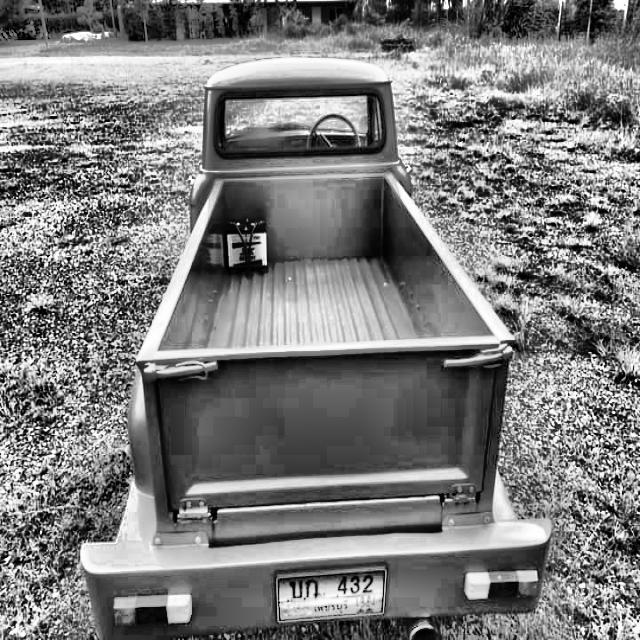license-plate: (274, 566, 390, 626)
